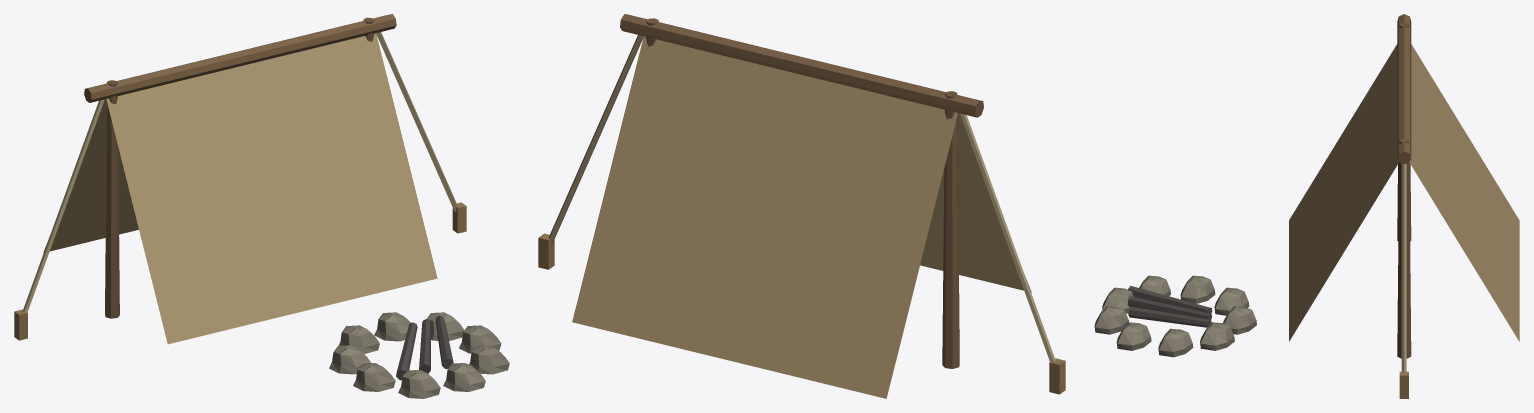
The model's file is abandoned-camp.glb.
3 renders of one model, left to right at view 1: azimuth 30°, elevation 25°; view 2: azimuth 150°, elevation 25°; view 3: azimuth 270°, elevation 25°, orthographic. The views are drawn at different scales.
Visible parts, largest first — view 1: abandoned-camp; view 2: abandoned-camp; view 3: abandoned-camp.
Part boxes in pixels (<box>): abandoned-camp: <box>14,14,509,398</box>; abandoned-camp: <box>538,14,1065,398</box>; abandoned-camp: <box>1094,14,1519,398</box>.
Size of the model in its own units: 3.32 by 1.65 by 2.95.
